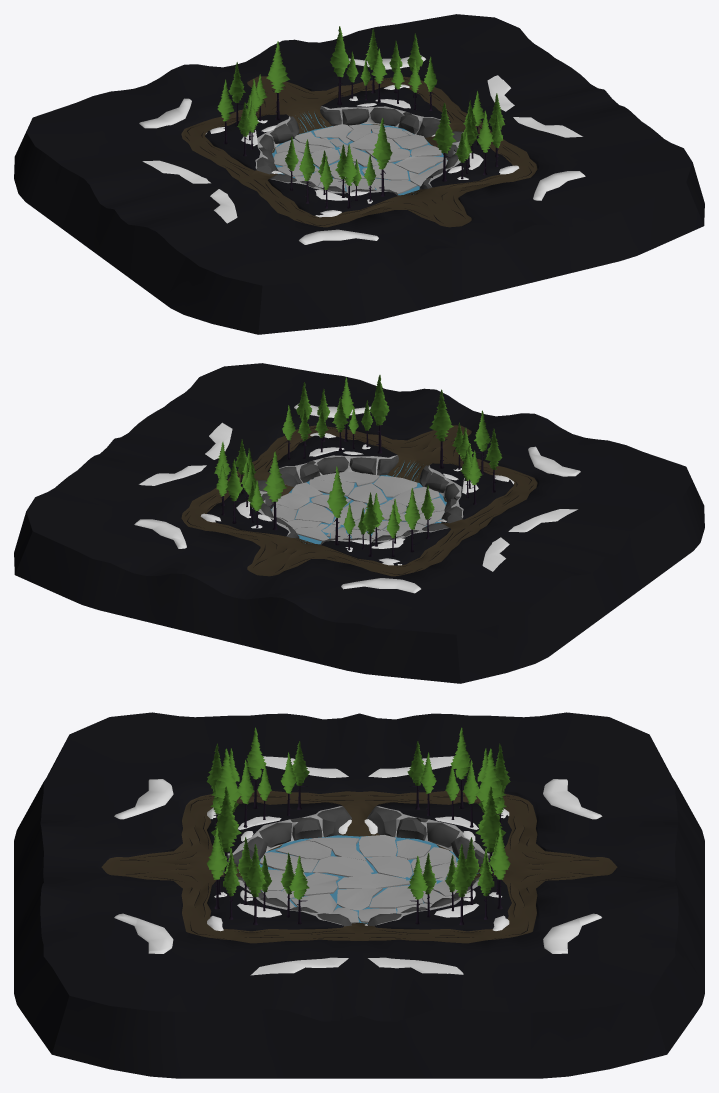
Rendered from Map_01.FBX.
3 views of the same model, one above another, from view 1: azimuth 30°, elevation 25°; view 2: azimuth 150°, elevation 25°; view 3: azimuth 270°, elevation 25° (orthographic). The views are drawn at different scales.
Visible parts, largest first — view 1: Water; view 2: Water; view 3: Water.
Boxes of the visible parts, x1,y1,x2,y2 form: Water: (14,14,704,334); Water: (14,363,704,683); Water: (14,712,704,1078).
Bounding box in the file's own units: 1142 × 249 × 1035.
